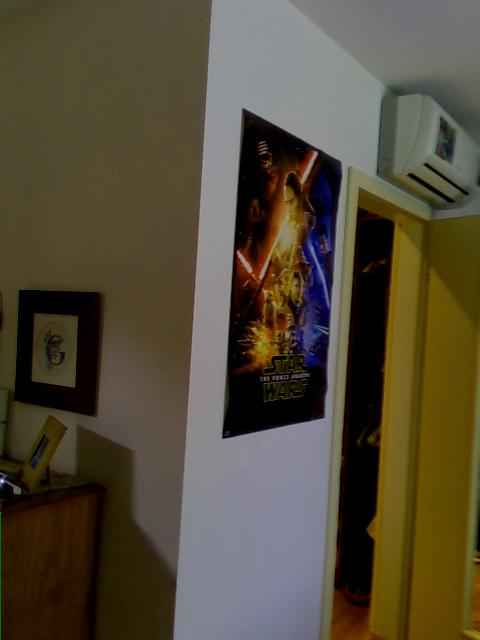open_door: (318, 163, 431, 638)
